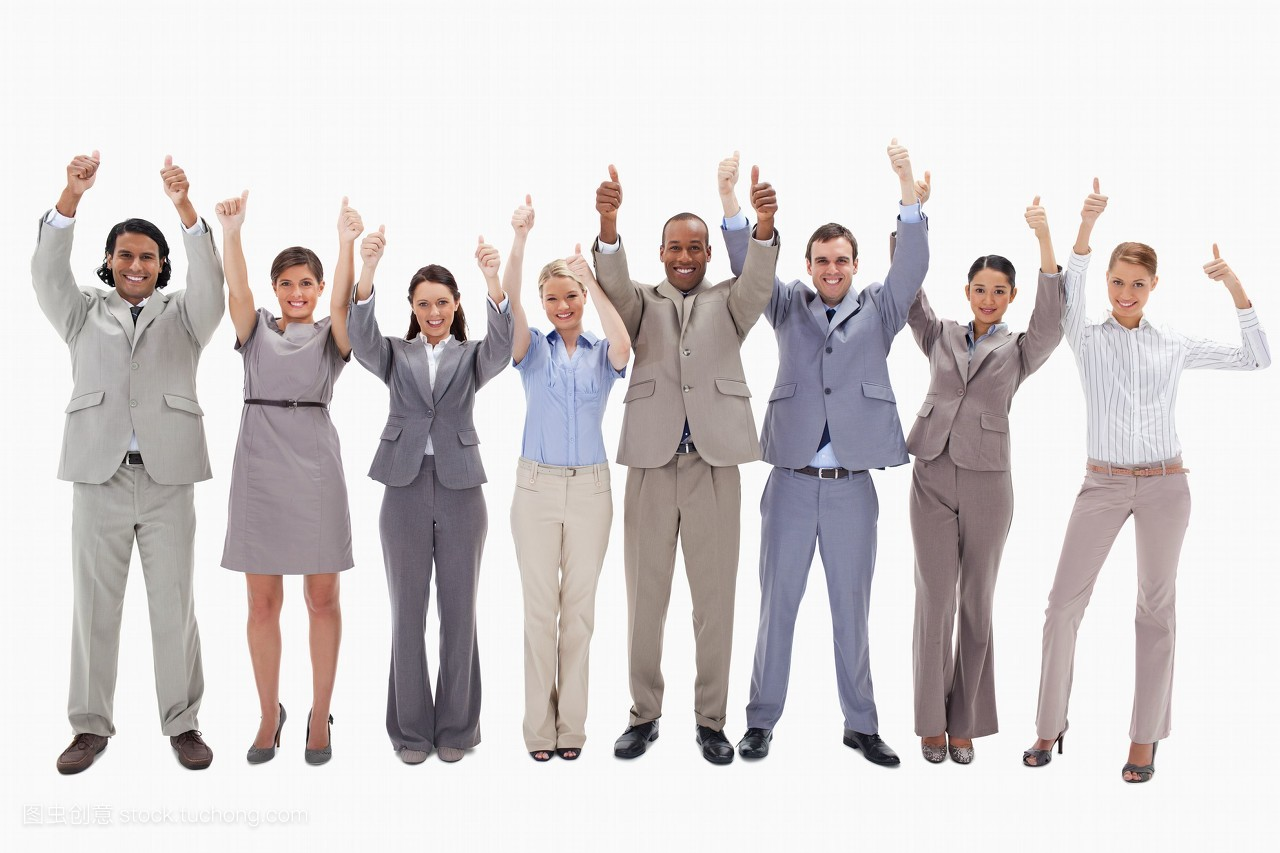handsup: (721, 102, 937, 776), (1061, 166, 1279, 820), (22, 143, 226, 775), (595, 122, 786, 778), (889, 131, 1073, 796), (215, 178, 369, 791), (357, 203, 521, 778), (498, 168, 634, 786)
